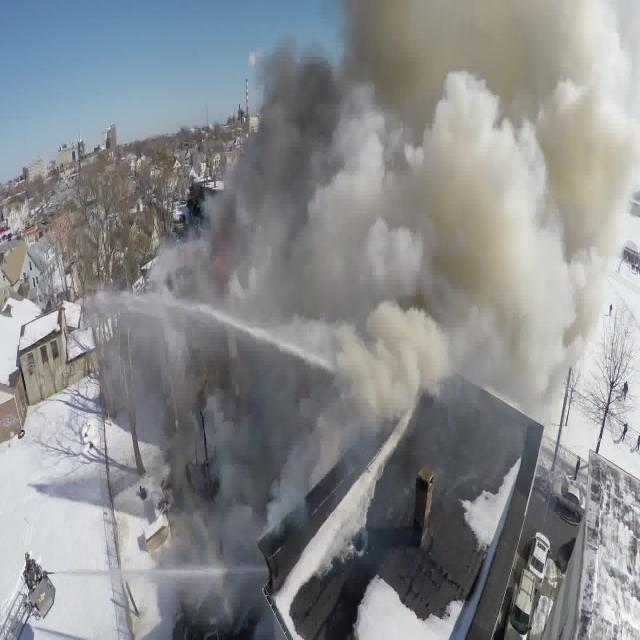Smoke: (288, 0, 640, 306), (220, 105, 370, 481), (371, 304, 448, 413)
